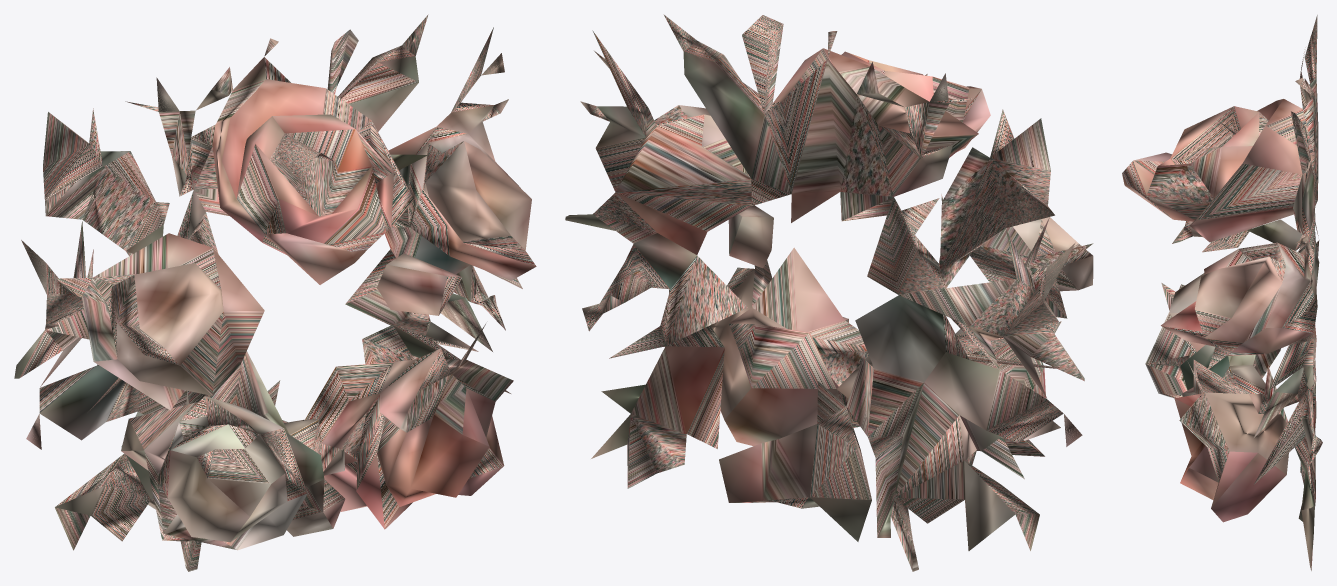
3 renders of one model, left to right at view 1: azimuth 30°, elevation 25°; view 2: azimuth 150°, elevation 25°; view 3: azimuth 270°, elevation 25°, orthographic. The views are drawn at different scales.
Visible parts, largest first — view 1: Rose-Frame-9-26; view 2: Rose-Frame-9-26; view 3: Rose-Frame-9-26.
Boxes of the visible parts, <box> form: Rose-Frame-9-26: <box>14,14,536,571</box>; Rose-Frame-9-26: <box>565,14,1093,571</box>; Rose-Frame-9-26: <box>1122,15,1322,570</box>.
Bounding box in the file's own units: 0.3238 × 0.3092 × 0.1321.
1 material, 1 textured.
